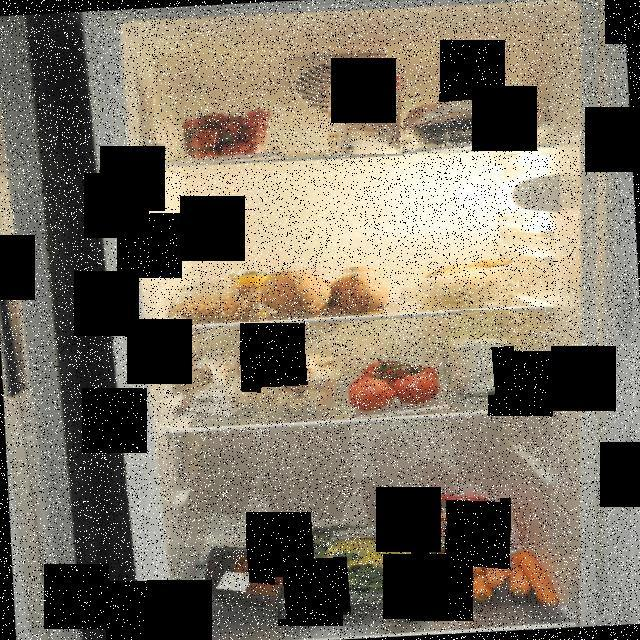beef: (194, 538, 330, 607)
butter: (400, 490, 500, 560)
carrot: (430, 526, 570, 606)
chicken: (402, 91, 540, 157)
corn: (228, 270, 278, 312)
flour: (173, 344, 261, 419)
mushrooms: (249, 350, 339, 404)
potato: (414, 260, 520, 304)
shrimp: (174, 290, 260, 322)
spinach: (270, 518, 452, 619)
strawberries: (170, 107, 286, 165)
sugar: (439, 311, 514, 398), (328, 74, 406, 154)
sweet_potato: (256, 263, 402, 315)
tomato: (336, 354, 448, 420)
